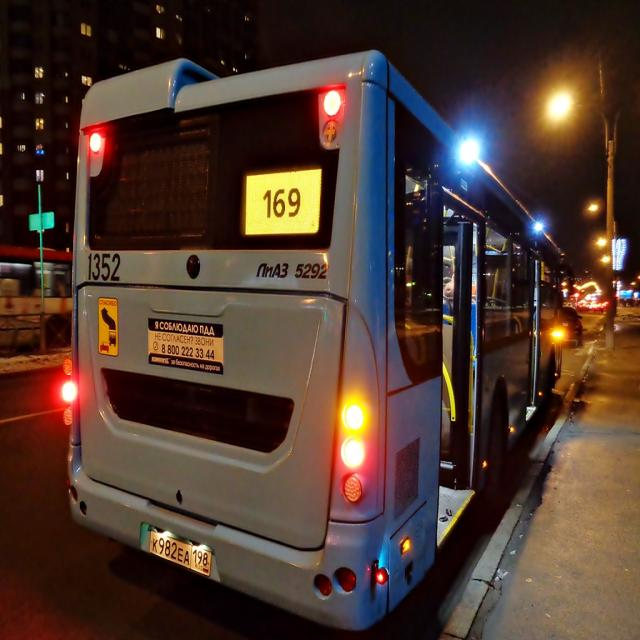number-of-bus: (256, 178, 312, 229)
